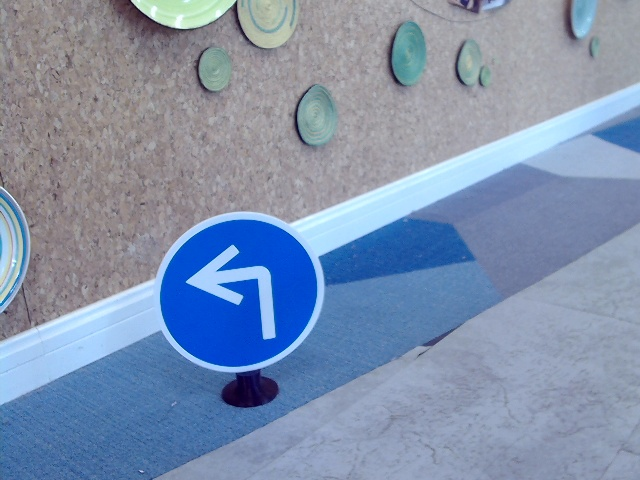turn_left: (191, 242, 282, 343)
